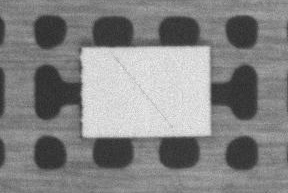DIE_CRACK: (164, 34, 257, 85)
